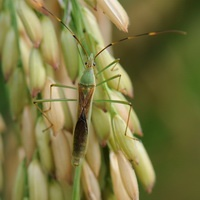insect: (32, 17, 154, 191)
